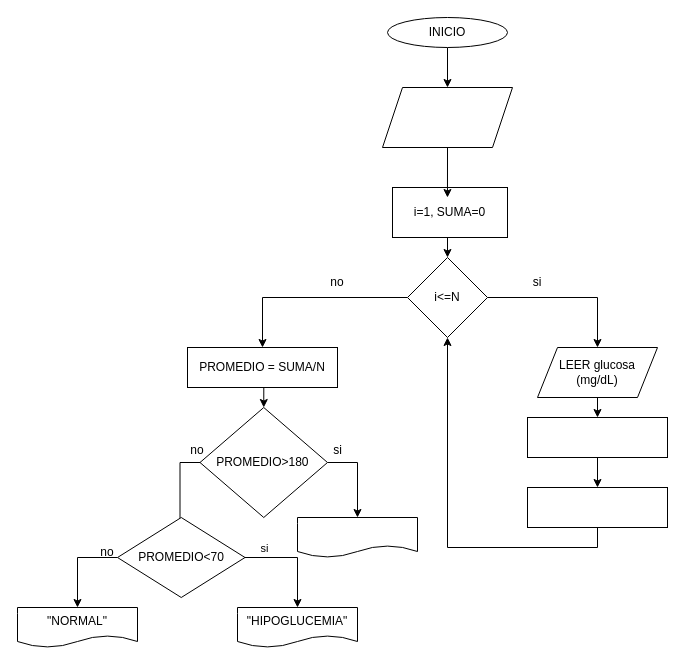
Image size: 685x665. Some labels were removed from this diagram. The centre of each missing label's shape, as x and y in pixels:
"HIPERGLUCEMIA": point 357,537
i = i + 1: point 597,507
LEER N cantidad lecturas glucosa: point 447,117
SUMA = SUMA + glucosa: point 597,437
